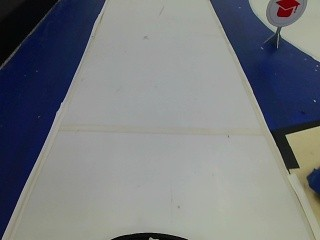school: (261, 0, 307, 32)
